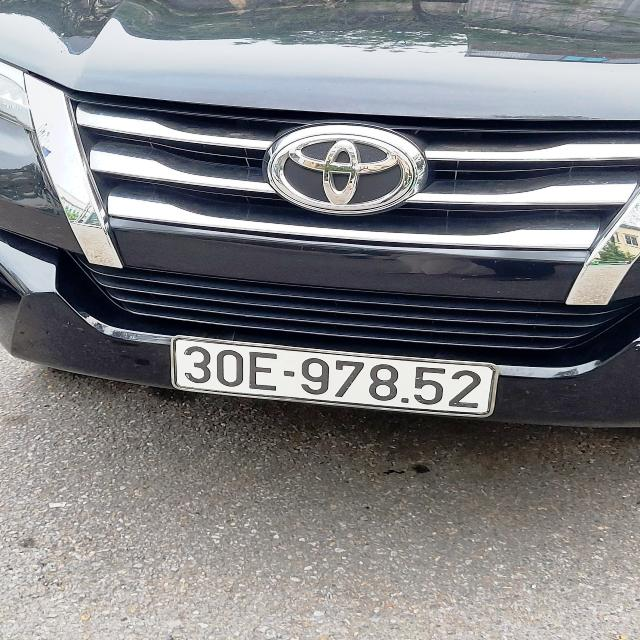license_plate: (178, 339, 494, 419)
